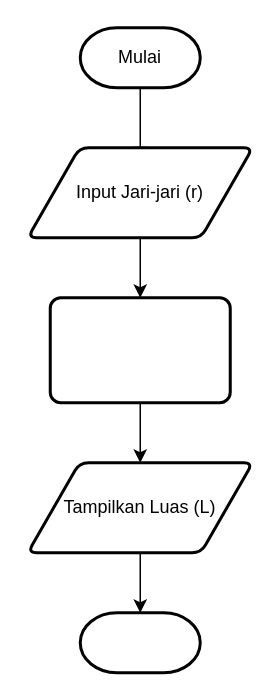
The diagram is 279 pixels wide and 699 high, and some of its shapes have lost their labels. The shapes that lost their labels are listed below. From the top down, each one's centre as x and y in pixels, then its label:
At (x=139, y=350): "L=22/7*r*r".
At (x=139, y=642): "Selesai".
